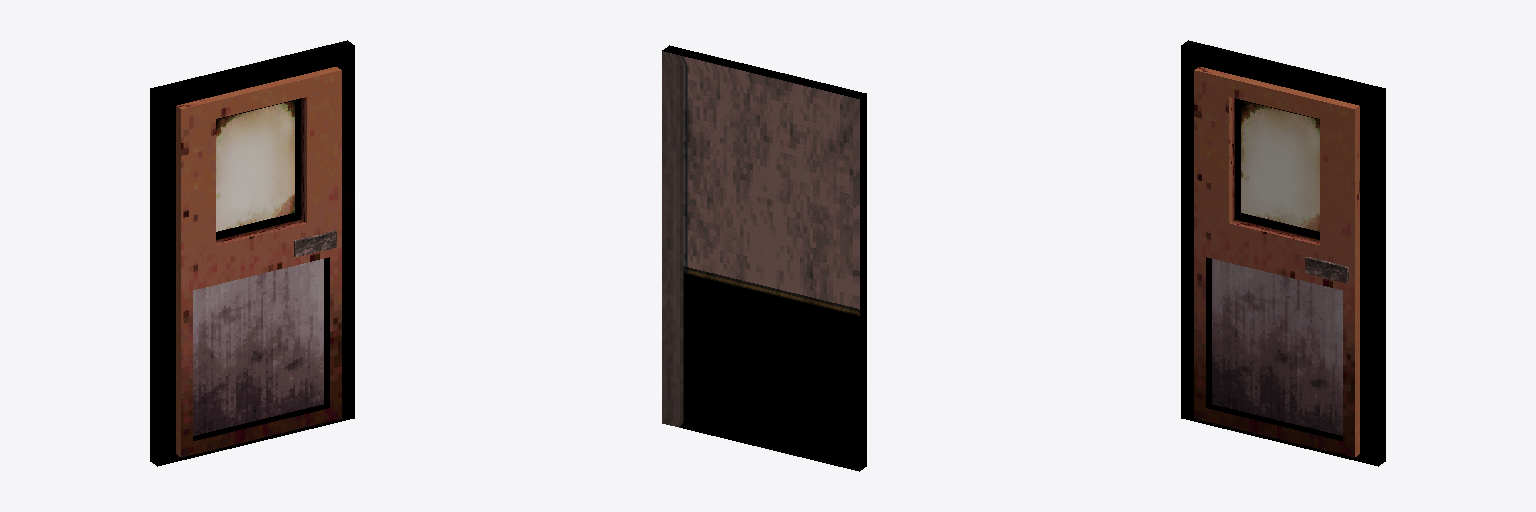
3 views of the same model, side by side, from view 1: azimuth 30°, elevation 25°; view 2: azimuth 150°, elevation 25°; view 3: azimuth 330°, elevation 25° (orthographic).
Visible parts, largest first — view 1: Cube.036; view 2: Cube.036; view 3: Cube.036.
Part boxes in pixels (x1,y1,x2,y2): Cube.036: (150,40,354,466); Cube.036: (662,45,866,471); Cube.036: (1181,40,1385,466).
Size of the model in its own units: 0.1604 by 0.2885 by 0.0204.
1 materials, 1 textured.